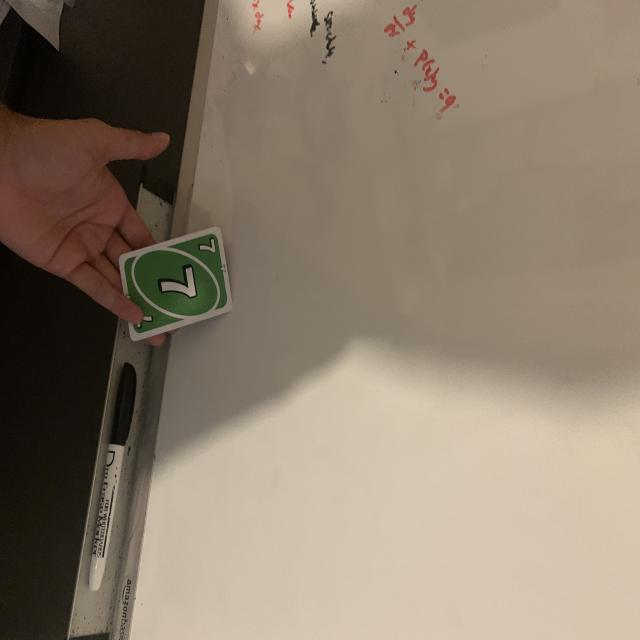lgreen-7: (193, 231, 224, 261)
